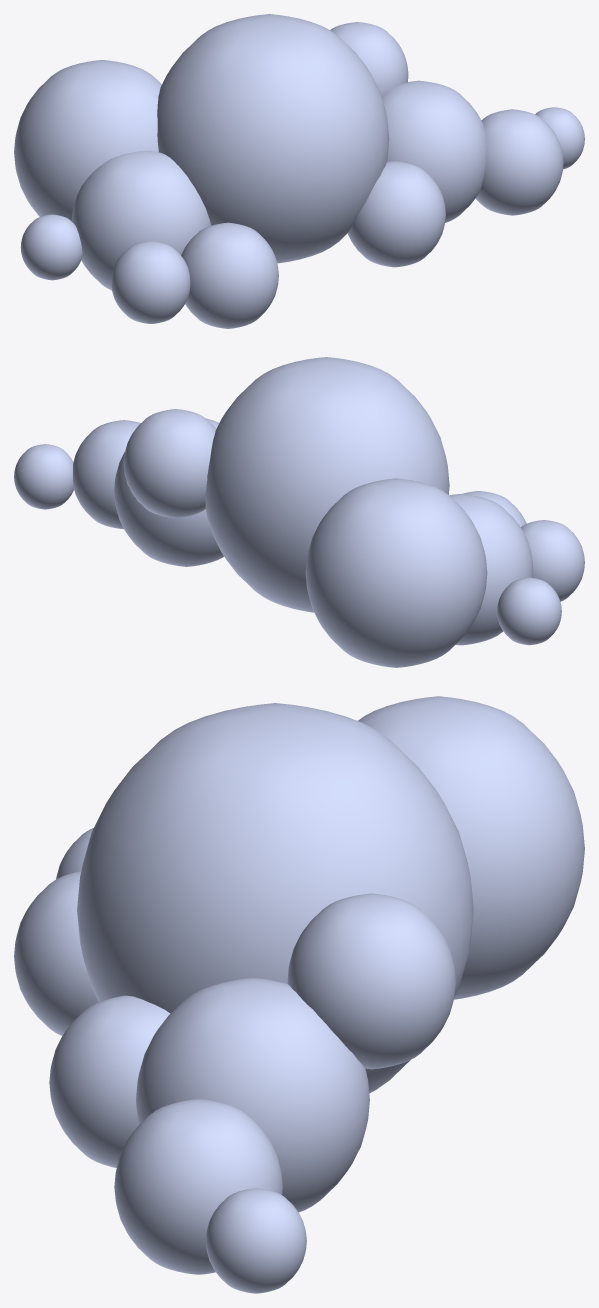
The picture shows the model from 3 angles, top to bottom: view 1: azimuth 30°, elevation 25°; view 2: azimuth 150°, elevation 25°; view 3: azimuth 270°, elevation 25°; orthographic projection. The views are drawn at different scales.
Parts seen in each view (by area): view 1: Node1; view 2: Node1; view 3: Node1.
Boxes of the visible parts, x1,y1,x2,y2 form: Node1: (14, 14, 584, 328); Node1: (14, 357, 584, 667); Node1: (14, 696, 584, 1293).
Bounding box in the file's own units: 8.8 × 3.6 × 4.87.
